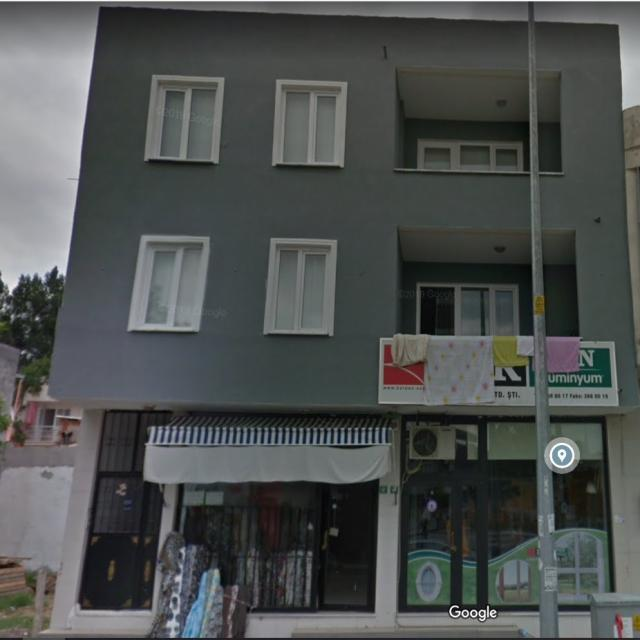Building: (45, 6, 640, 637)
